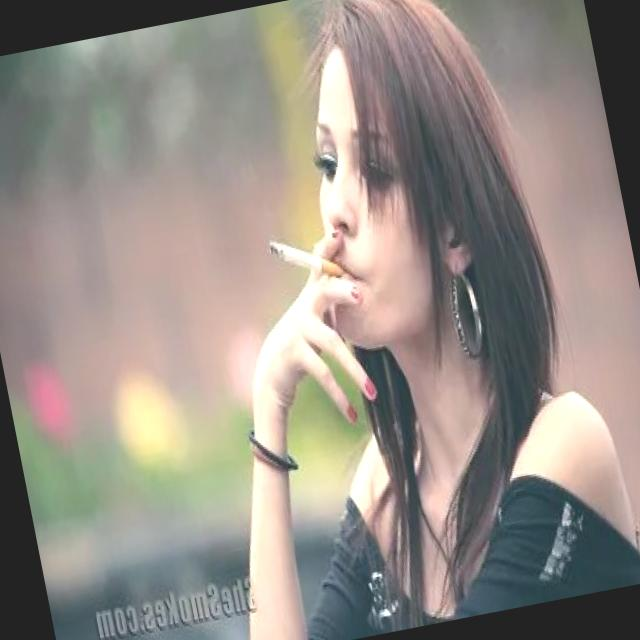smoke: (262, 222, 352, 302)
